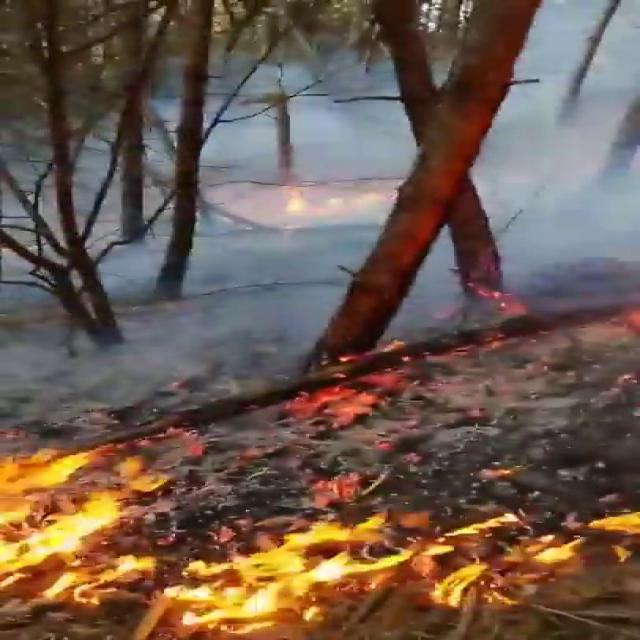Fire: (1, 438, 636, 640)
Smoke: (23, 0, 640, 392)
